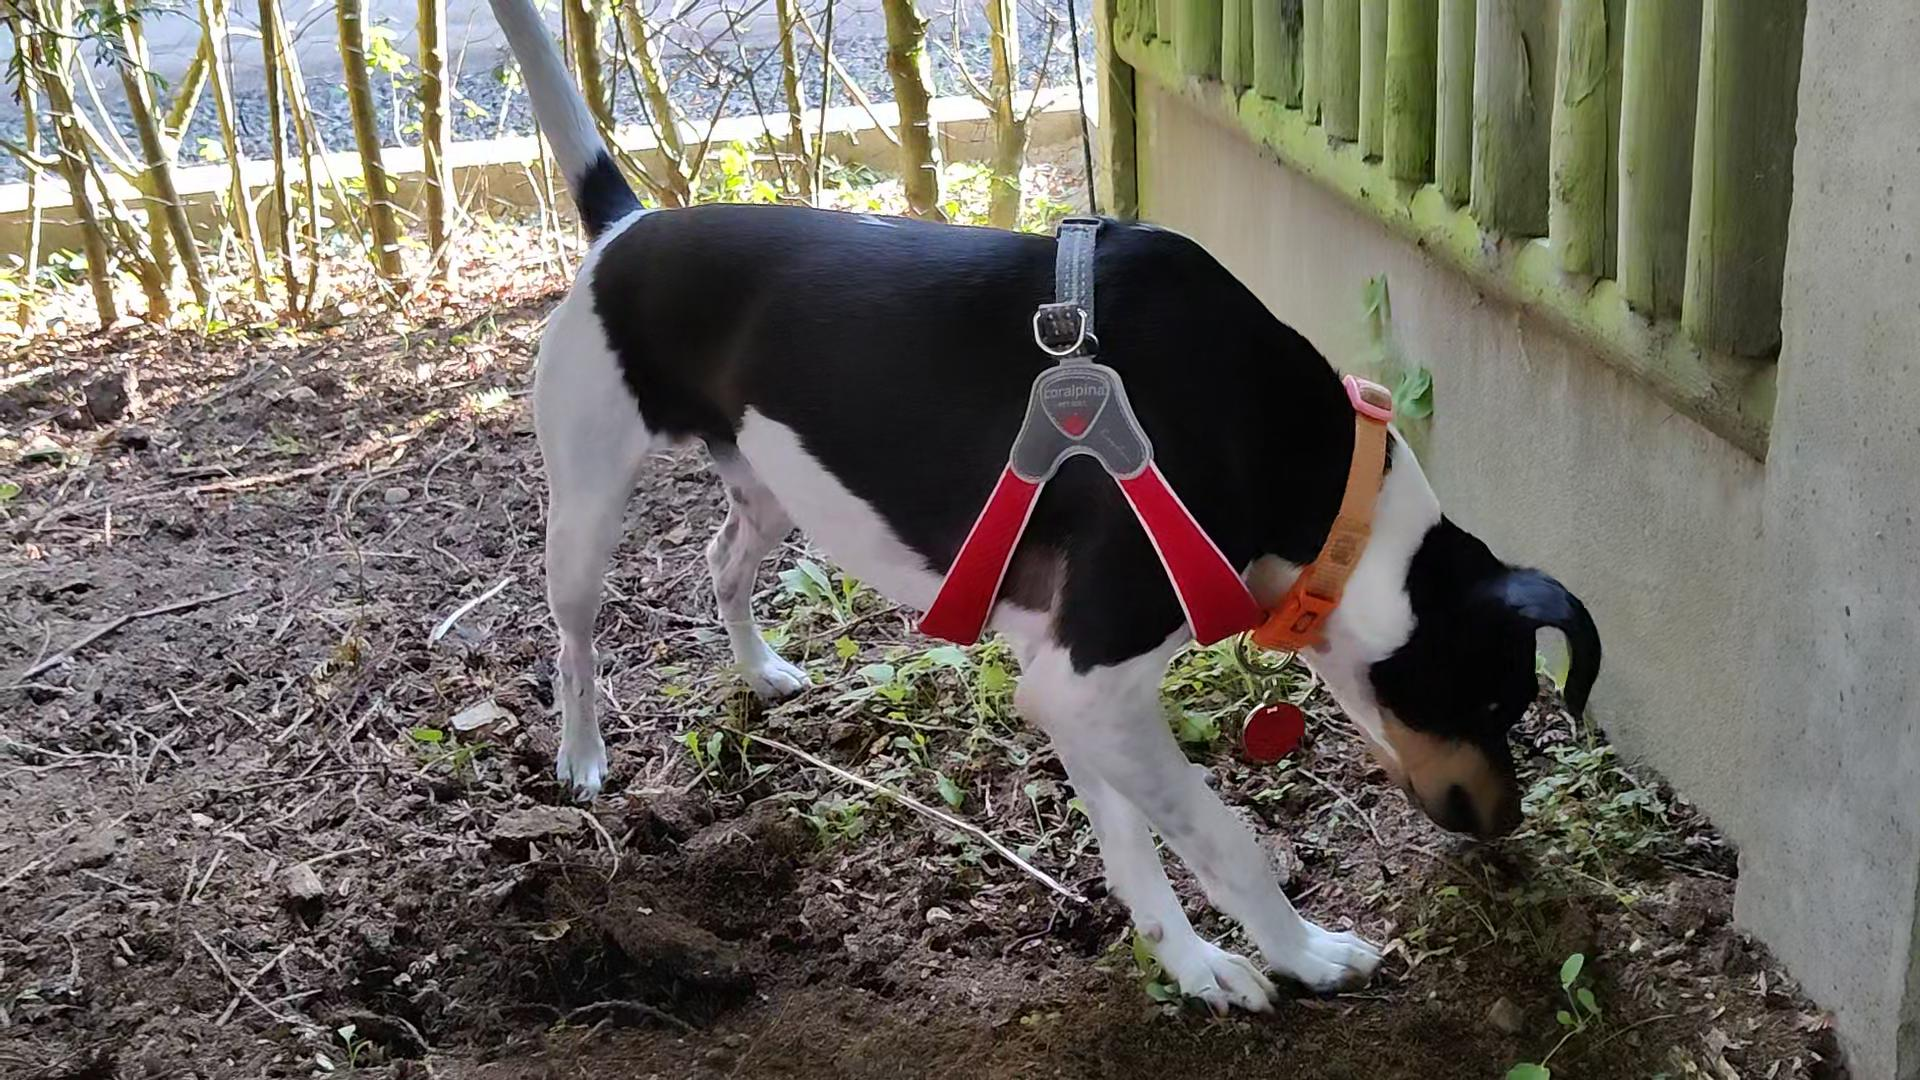Dog: (463, 0, 1629, 1022)
